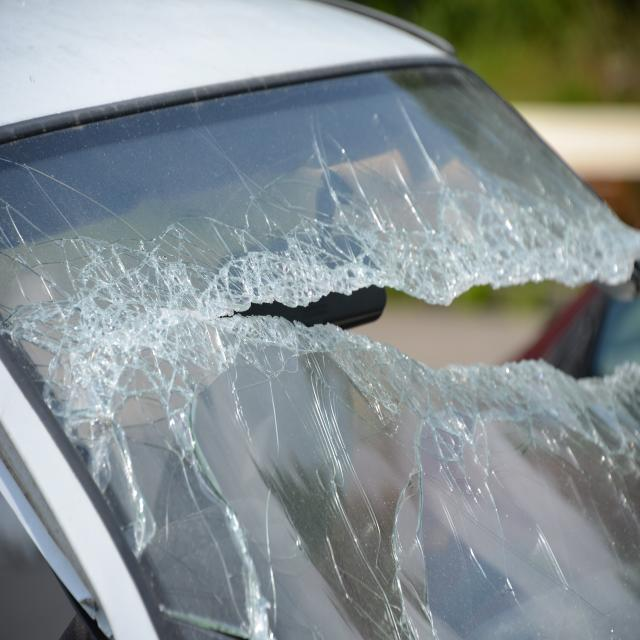shatter: (0, 93, 640, 640)
